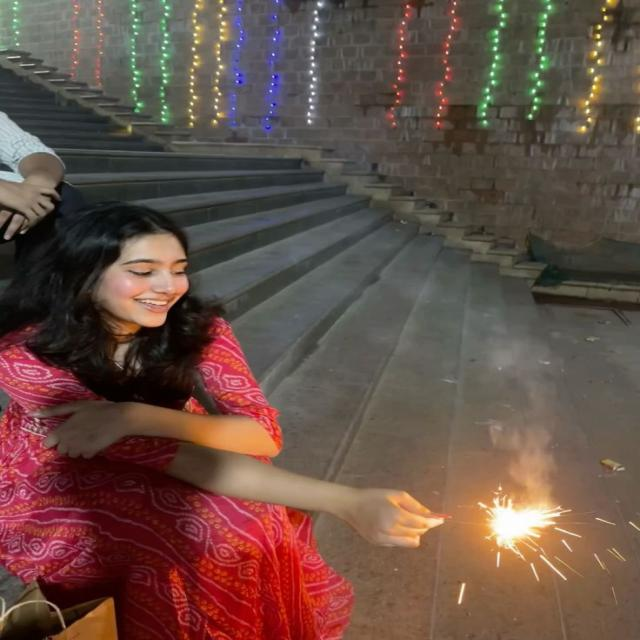fire: (480, 491, 572, 559)
